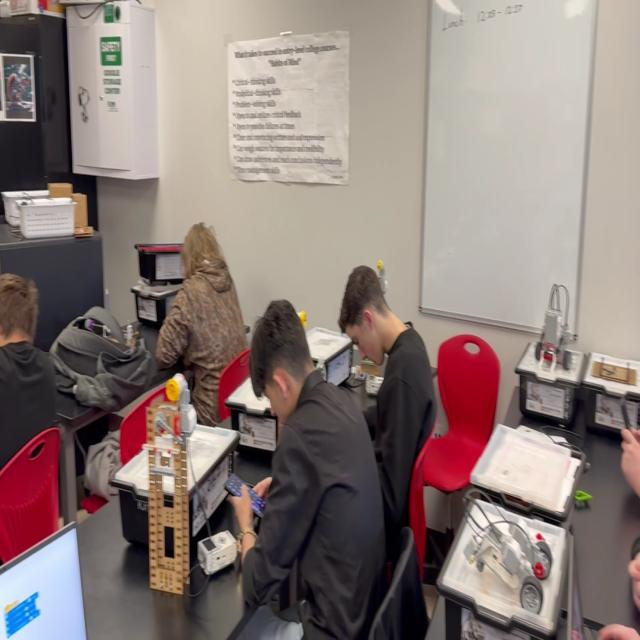pen: (224, 471, 270, 523), (621, 396, 634, 454)
